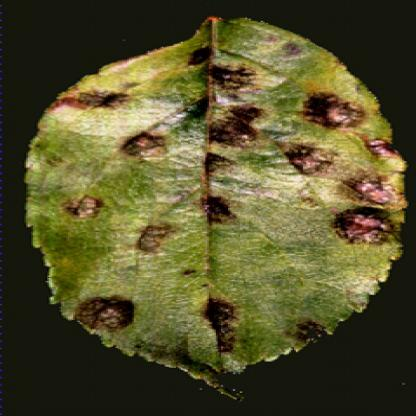apple scab leaf: (2, 1, 414, 415)
